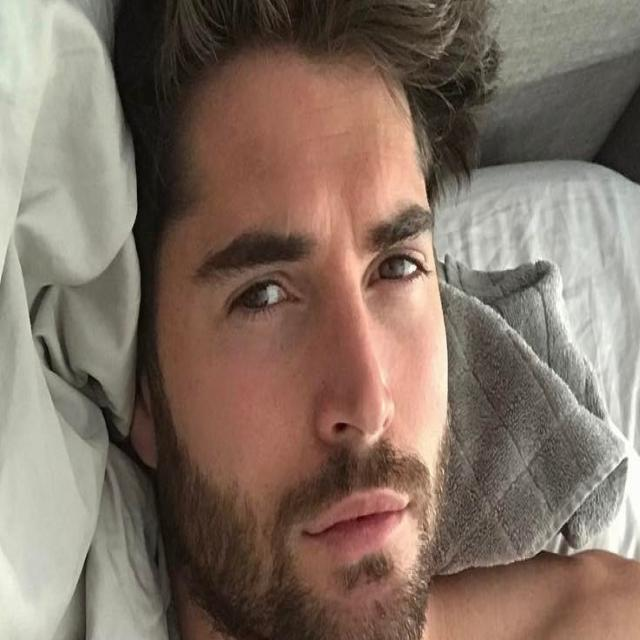human: (98, 0, 499, 640)
